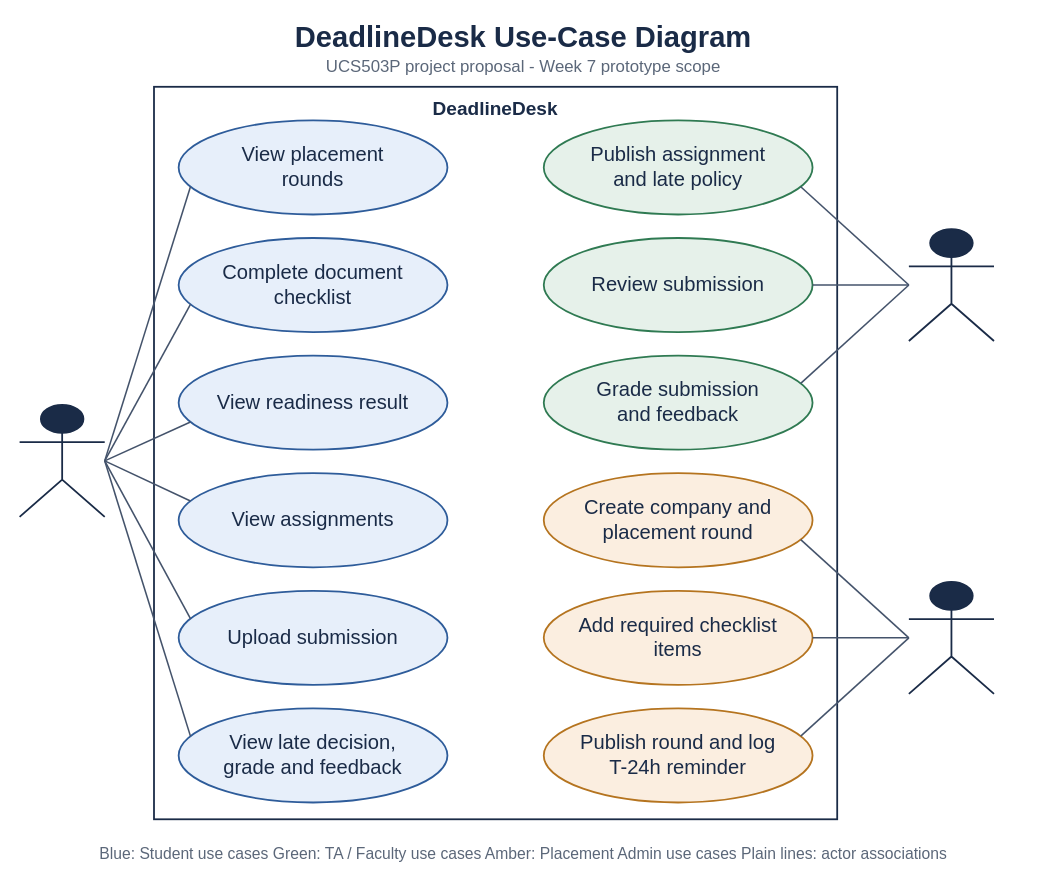
The diagram is 1055 pixels wide and 885 high, and some of its shapes have lost their labels. The shapes that lost their labels are listed below. From the top down, each one's centre as x and y in pixels, then its label:
At pixel 950 284: "TA / Faculty".
At pixel 61 460: "Student".
At pixel 950 637: "Placement Admin".
